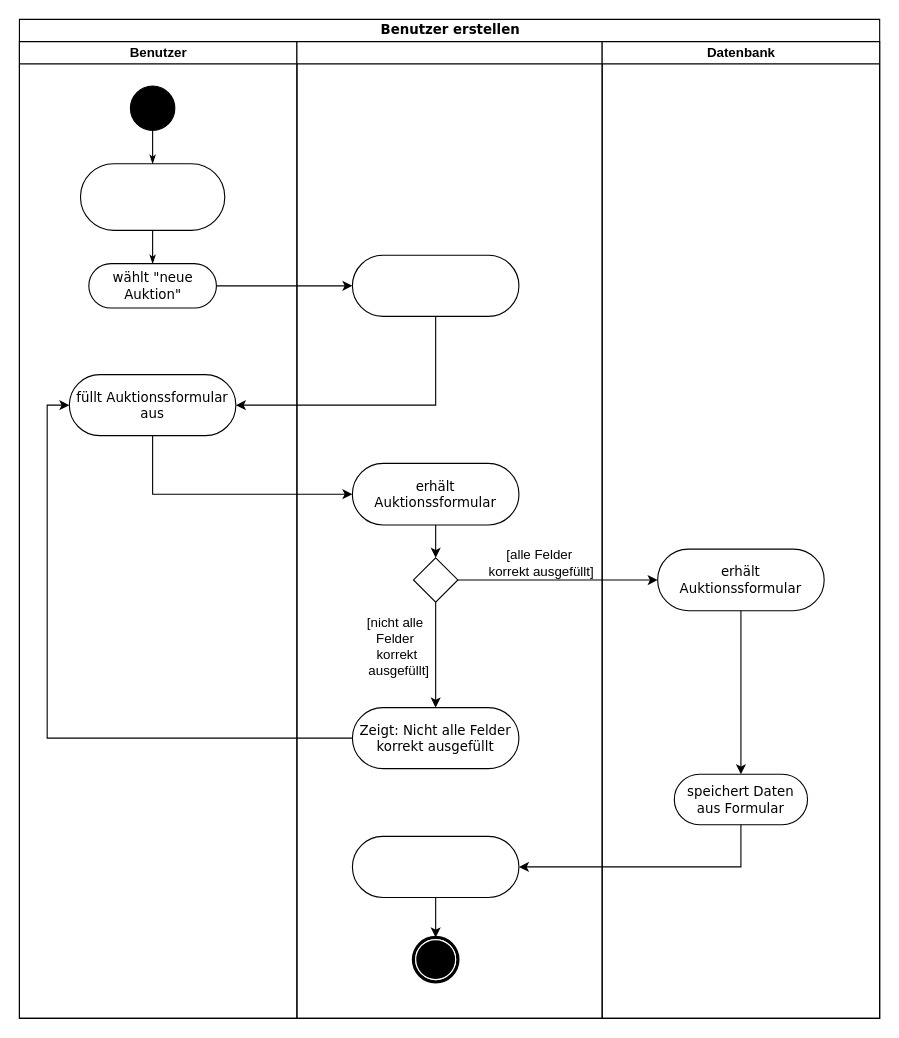
This 899x1038 diagram has some shape labels left out. The box of each missing label's shape, as (x1, y1, x2, y2) in pixels:
Navigiert zu Registrierungsseite: (79, 163, 225, 230)
Online-Shop: (296, 41, 602, 1018)
zeigt Auktionssformular an: (351, 254, 519, 316)
Zeigt: Auktion erfolgreich erstellt: (351, 835, 519, 897)
